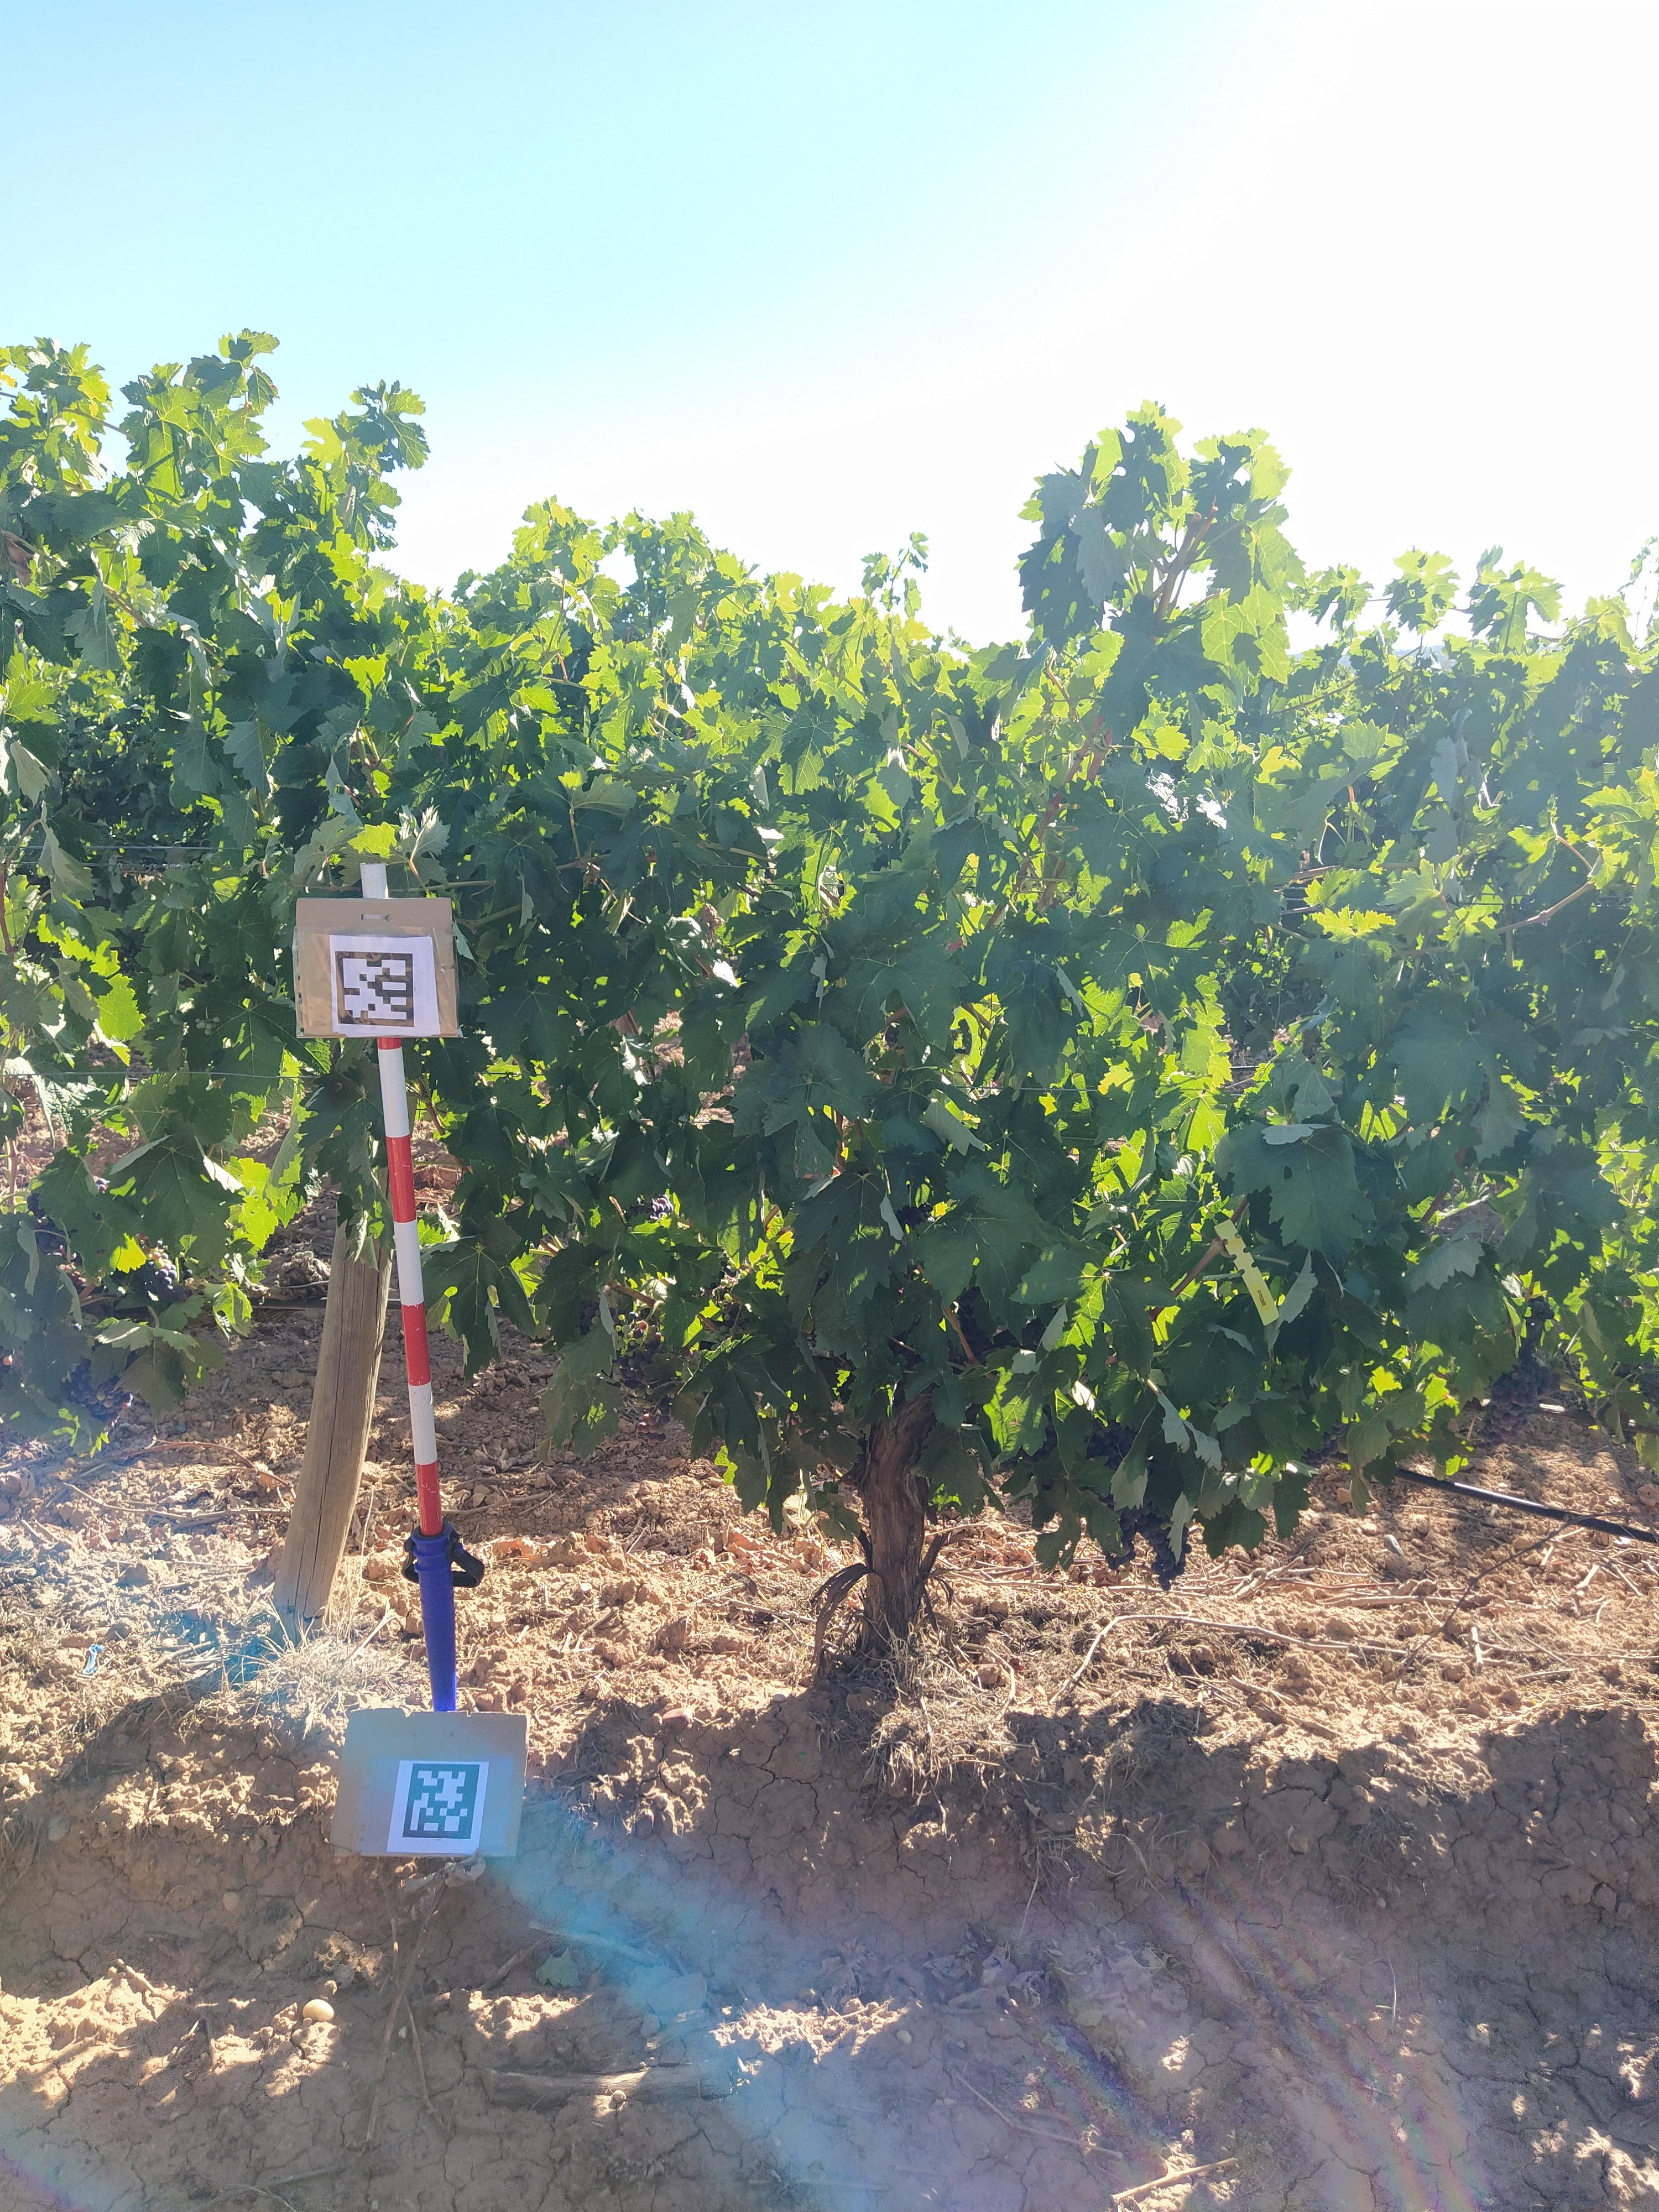QR: (396, 1759, 483, 1844), (333, 946, 416, 1031)
